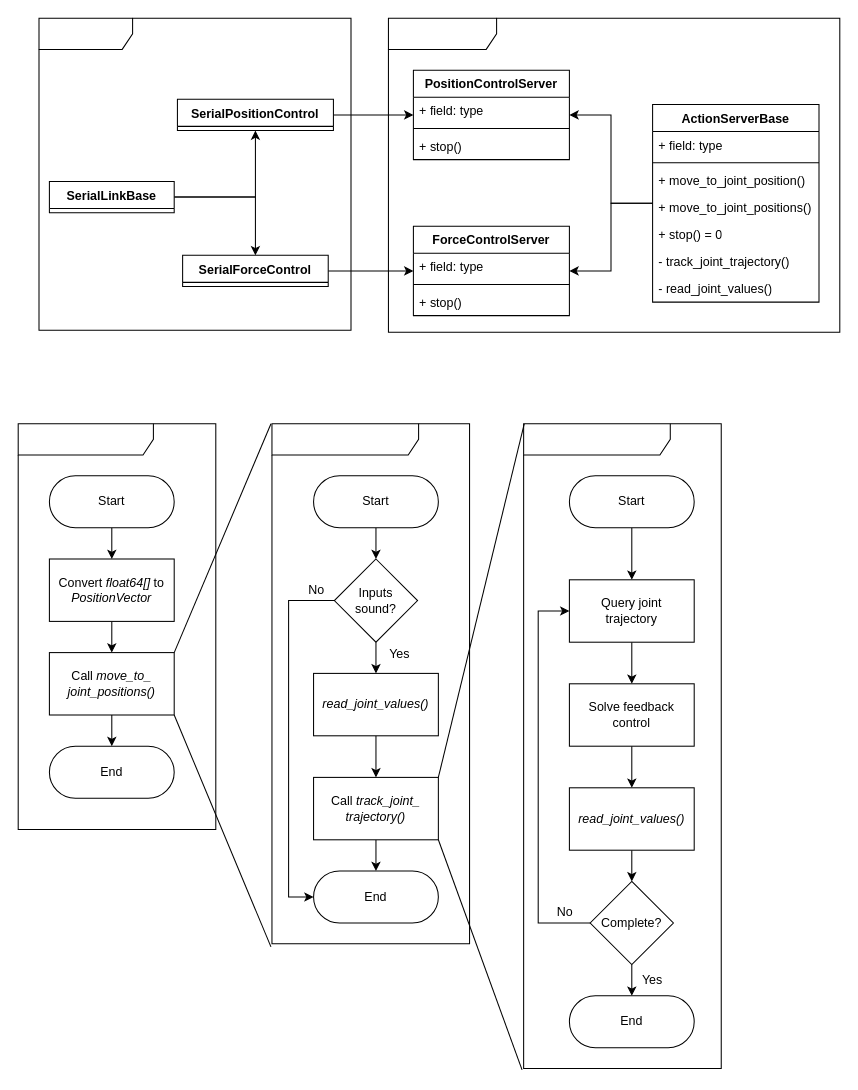
Image size: 858x1090. Some labels were removed from this diagram. The box of each missing label's shape, as (x1, y1, x2, y2) in pixels:
MoveToJointPosition: (17, 423, 216, 829)
MoveToJointPositions: (271, 423, 470, 944)
RobotLibrary: (38, 17, 351, 330)
serial_link_server: (387, 17, 840, 332)
track_joint_trajectory(): (523, 423, 721, 1069)
